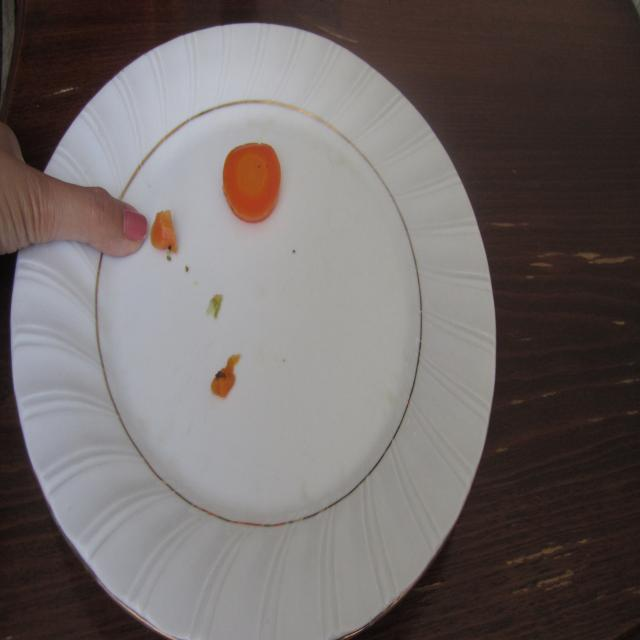carrot: (221, 140, 282, 224)
